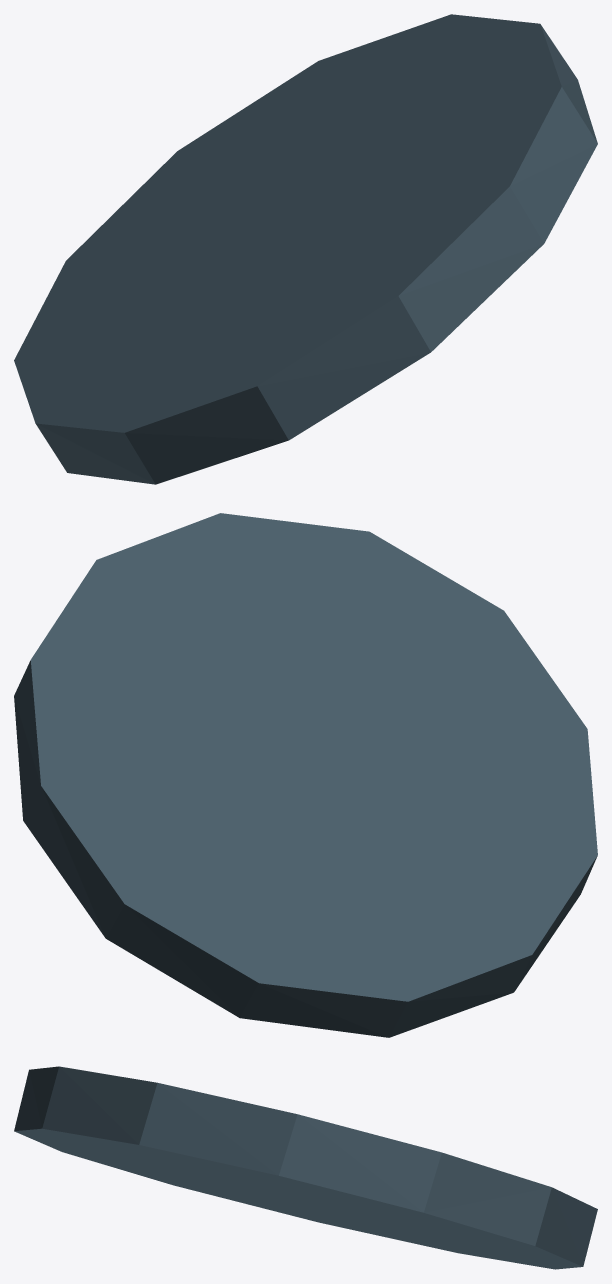
File: astronaut_base_group781958242_lev4.glb
3 renders of one model, top to bottom at view 1: azimuth 30°, elevation 25°; view 2: azimuth 150°, elevation 25°; view 3: azimuth 270°, elevation 25°, orthographic. The views are drawn at different scales.
Parts seen in each view (by area): view 1: astronaut_base_group781958242_lev4; view 2: astronaut_base_group781958242_lev4; view 3: astronaut_base_group781958242_lev4.
Boxes of the visible parts, x1=… form: astronaut_base_group781958242_lev4: x1=14, y1=14, x2=597, y2=484; astronaut_base_group781958242_lev4: x1=14, y1=513, x2=597, y2=1037; astronaut_base_group781958242_lev4: x1=14, y1=1066, x2=597, y2=1269.
Bounding box in the file's own units: 0.2621 × 0.1746 × 0.2853.
